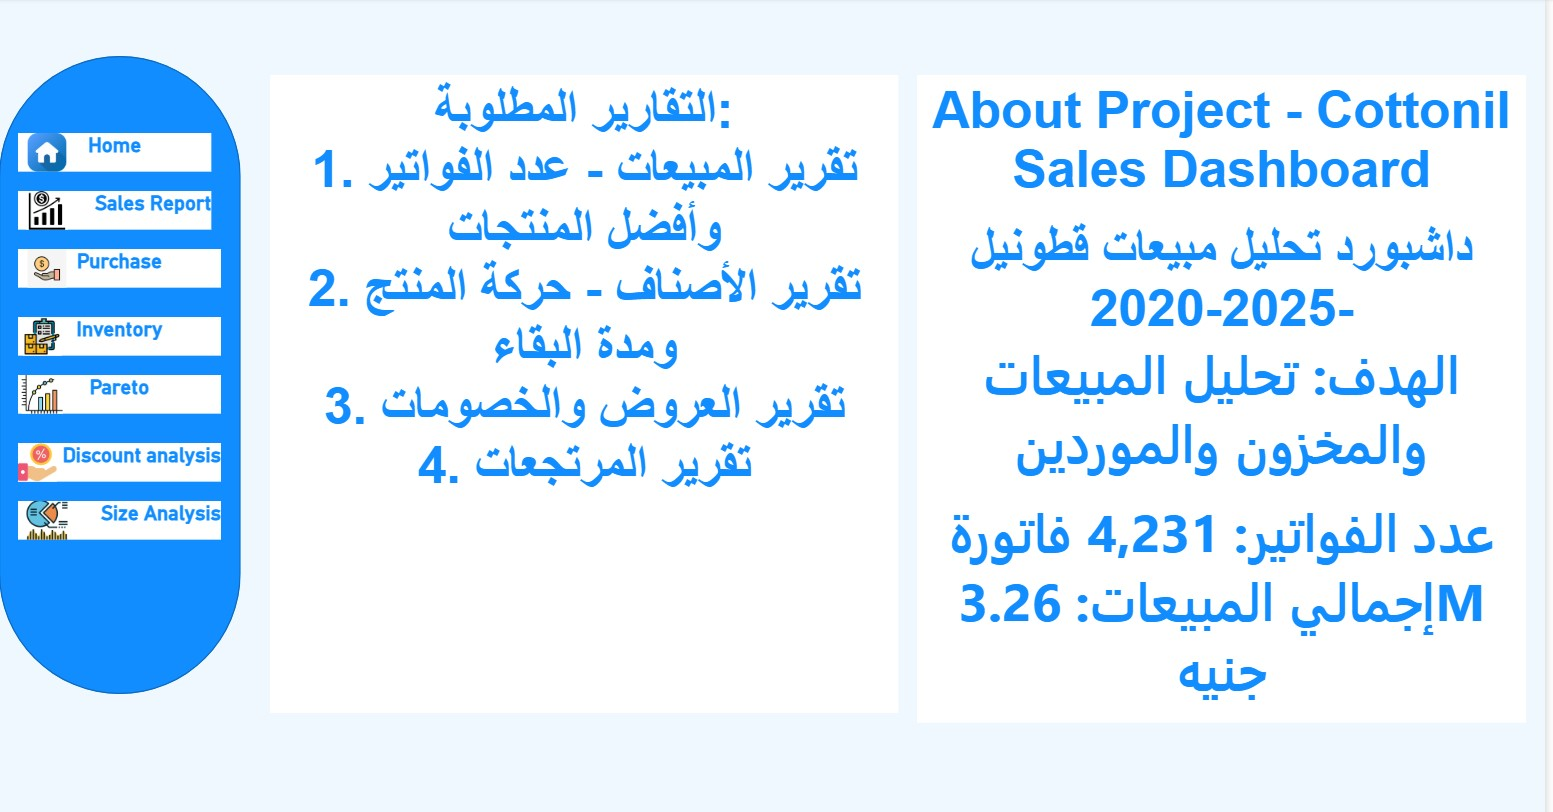

Layout of this report page (visuals, bound fields, positions):
{"tool":"powerbi","page":{"name":"About ","canvas":[1280,720],"ordinal":1},"visuals":[{"type":"textbox","box":[760,64,504,536],"z":0},{"type":"actionButton","title":"Size Analysis","box":[16,416,168,32],"z":0,"group":"g8"},{"type":"textbox","box":[224,64,520,528],"z":1000},{"type":"image","box":[16,416,48,32],"z":1000,"group":"g8"},{"type":"shape","box":[0,48,200,528],"z":2000},{"type":"group","id":"g1","title":"Group 1","box":[16,112,160,32],"z":3000},{"type":"group","id":"g2","title":"Group 2","box":[16,160,160,32],"z":4000},{"type":"group","id":"g3","title":"Group 1","box":[16,160,160,32],"z":5000,"group":"g2"},{"type":"group","id":"g4","title":"Group 3","box":[16,208,168,32],"z":5000},{"type":"image","box":[16,160,48,32],"z":6000,"group":"g2"},{"type":"group","id":"g5","title":"Group 4","box":[16,264,168,32],"z":6000},{"type":"actionButton","title":" Purchase","box":[16,208,168,32],"z":7000,"group":"g4"},{"type":"group","id":"g6","title":"Group 5","box":[16,312,168,32],"z":7000},{"type":"actionButton","title":"Home","box":[16,112,160,32],"z":8000,"group":"g1"},{"type":"actionButton","title":"Sales Report","box":[16,160,160,32],"z":8000,"group":"g3"},{"type":"image","box":[16,208,48,32],"z":8000,"group":"g4"},{"type":"group","id":"g7","title":"Group 6","box":[16,368,168,32],"z":8000},{"type":"image","box":[16,112,48,32],"z":9000,"group":"g1"},{"type":"actionButton","title":"Inventory ","box":[16,264,168,32],"z":9000,"group":"g5"},{"type":"group","id":"g8","title":"Group 6","box":[16,416,168,32],"z":9000},{"type":"image","box":[16,264,40,32],"z":10000,"group":"g5"},{"type":"actionButton","title":"Pareto","box":[16,312,168,32],"z":11000,"group":"g6"},{"type":"actionButton","title":"Discount analysis","box":[16,368,168,32],"z":12000,"group":"g7"},{"type":"image","box":[16,312,40,32],"z":13000,"group":"g6"},{"type":"image","box":[16,368,32,32],"z":13500,"group":"g7"}]}

Visuals, with their boxes on the page's 1280x720 design canvas (x1, y1, x2, y2). These are canvas units, not pixel positions in the 1553x812 screenshot, which may show the page scaled, cropped or inside an application window:
textbox: [760, 64, 1264, 600]
"Size Analysis" actionButton: [16, 416, 184, 448]
textbox: [224, 64, 744, 592]
image: [16, 416, 64, 448]
shape: [0, 48, 200, 576]
"Group 1" group: [16, 112, 176, 144]
"Group 2" group: [16, 160, 176, 192]
"Group 1" group: [16, 160, 176, 192]
"Group 3" group: [16, 208, 184, 240]
image: [16, 160, 64, 192]
"Group 4" group: [16, 264, 184, 296]
" Purchase" actionButton: [16, 208, 184, 240]
"Group 5" group: [16, 312, 184, 344]
"Home" actionButton: [16, 112, 176, 144]
"Sales Report" actionButton: [16, 160, 176, 192]
image: [16, 208, 64, 240]
"Group 6" group: [16, 368, 184, 400]
image: [16, 112, 64, 144]
"Inventory " actionButton: [16, 264, 184, 296]
"Group 6" group: [16, 416, 184, 448]
image: [16, 264, 56, 296]
"Pareto" actionButton: [16, 312, 184, 344]
"Discount analysis" actionButton: [16, 368, 184, 400]
image: [16, 312, 56, 344]
image: [16, 368, 48, 400]
